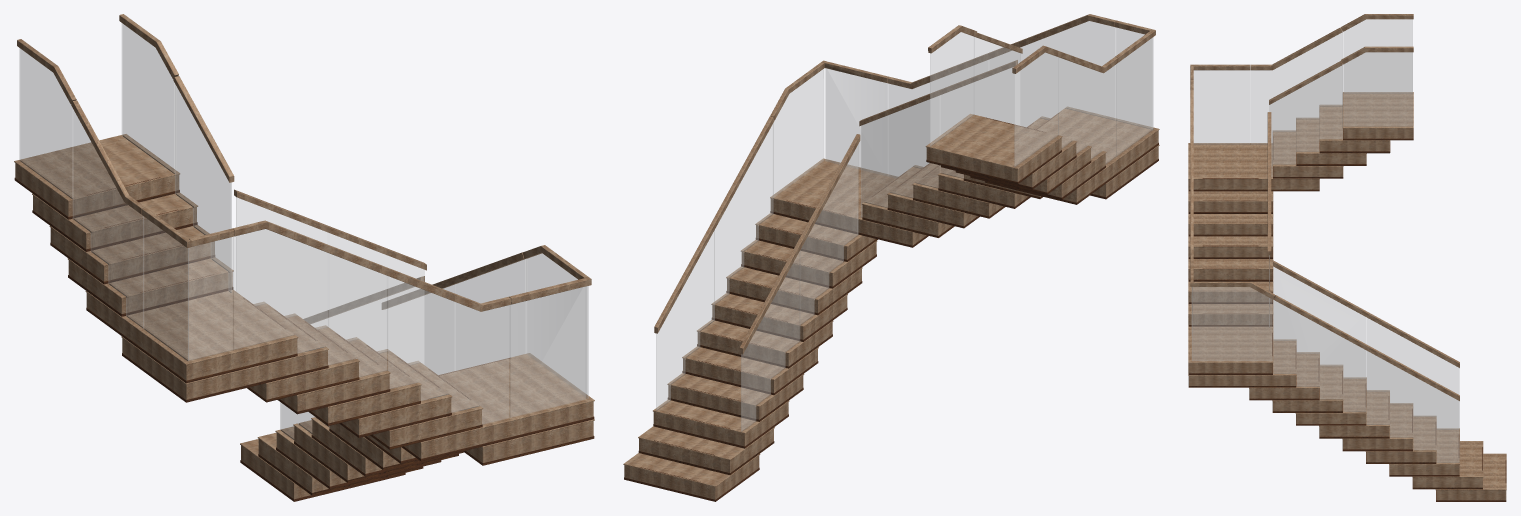
The picture shows the model from 3 angles, left to right: view 1: azimuth 30°, elevation 25°; view 2: azimuth 150°, elevation 25°; view 3: azimuth 270°, elevation 25°; orthographic projection. The views are drawn at different scales.
Visible parts, largest first — view 1: G_01___Default, G_03___Default, G_02___Default; view 2: G_01___Default, G_03___Default, G_02___Default; view 3: G_01___Default, G_03___Default, G_02___Default.
Part boxes in pixels (x1,y1,x2,y2): G_01___Default: [14, 14, 594, 499]; G_03___Default: [19, 23, 588, 439]; G_02___Default: [14, 177, 594, 501]; G_01___Default: [623, 14, 1159, 499]; G_03___Default: [656, 21, 1153, 431]; G_02___Default: [624, 113, 1158, 501]; G_01___Default: [1188, 14, 1506, 500]; G_03___Default: [1191, 19, 1459, 462]; G_02___Default: [1188, 129, 1506, 501].
Bounding box in the file's own units: 131 × 167 × 134.
4 materials, 2 textured.
